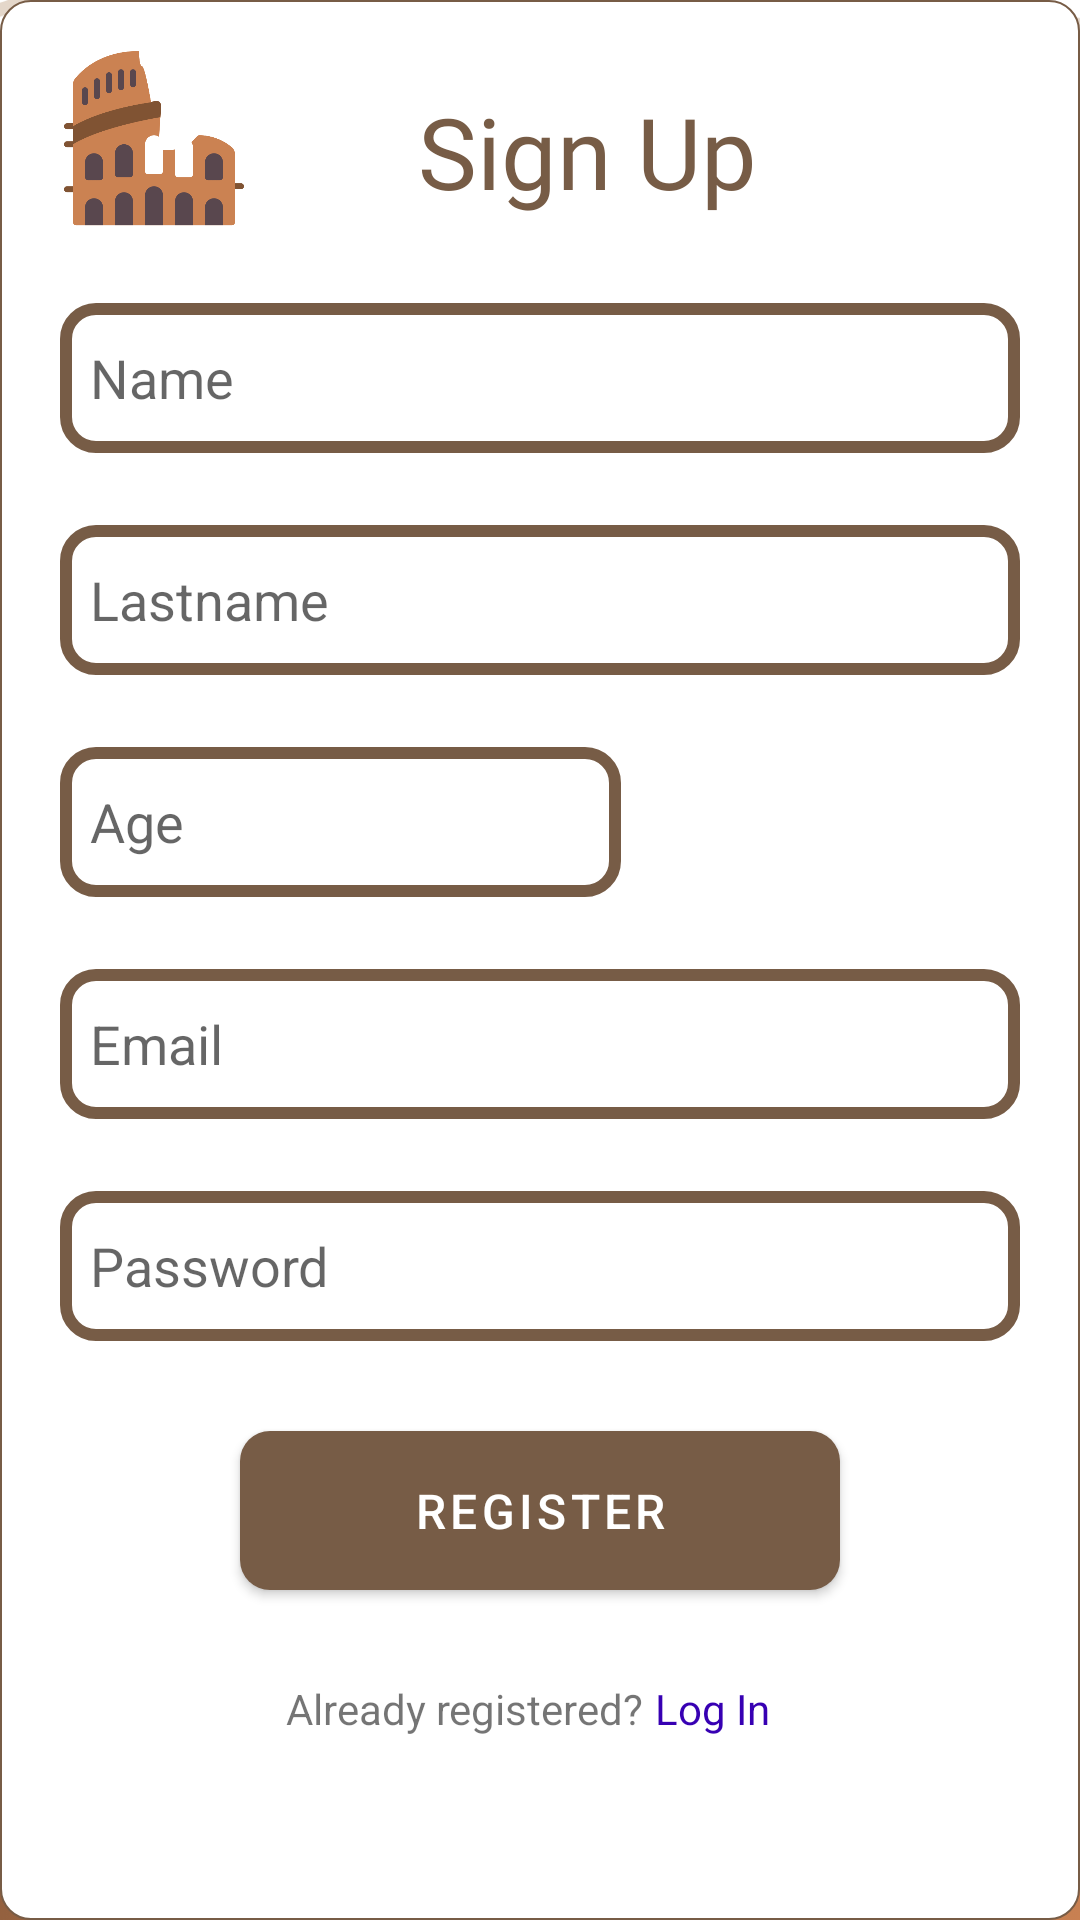

Named icons in this screenshot (1080×1920) and their bounding boxes, (x1, y1, x2, y2):
colosseum: (64, 51, 244, 226)
